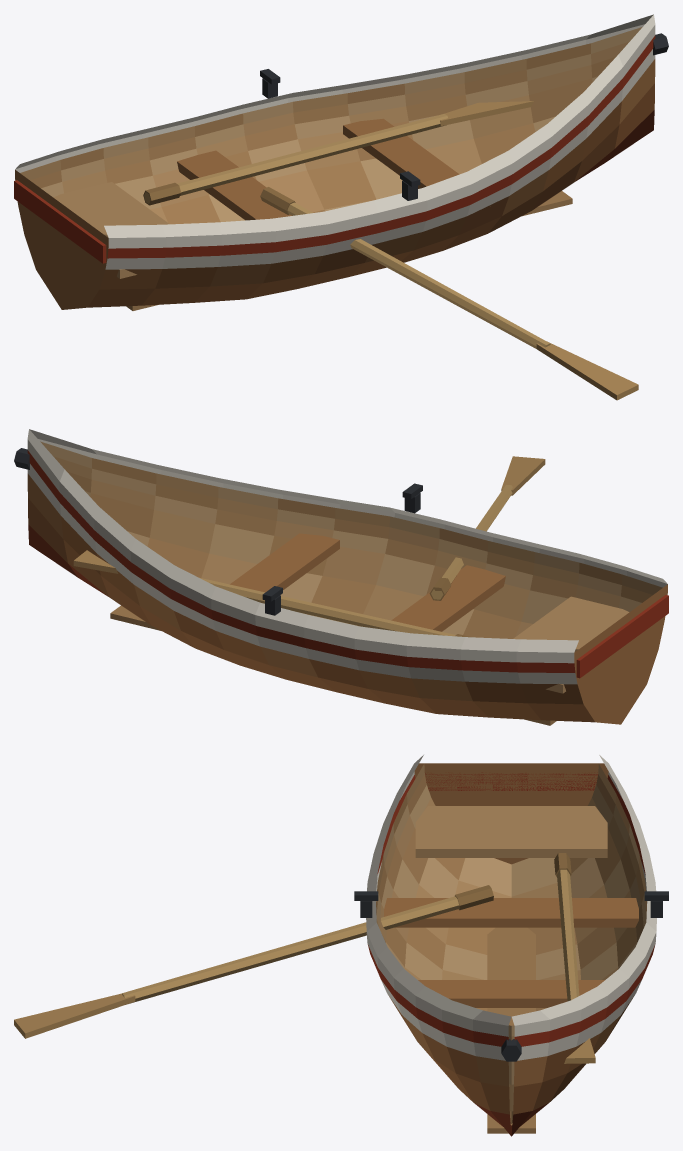
Rendered from river_boat.glb.
3 views of the same model, one above another, from view 1: azimuth 30°, elevation 25°; view 2: azimuth 150°, elevation 25°; view 3: azimuth 270°, elevation 25° (orthographic). The views are drawn at different scales.
Visible parts, largest first — view 1: river_boat; view 2: river_boat; view 3: river_boat.
Boxes of the visible parts, bbox=[...] form: river_boat: bbox=[14, 14, 668, 400]; river_boat: bbox=[14, 429, 668, 725]; river_boat: bbox=[14, 755, 668, 1136].
Size of the model in its own units: 3.58 by 0.9738 by 3.23.
